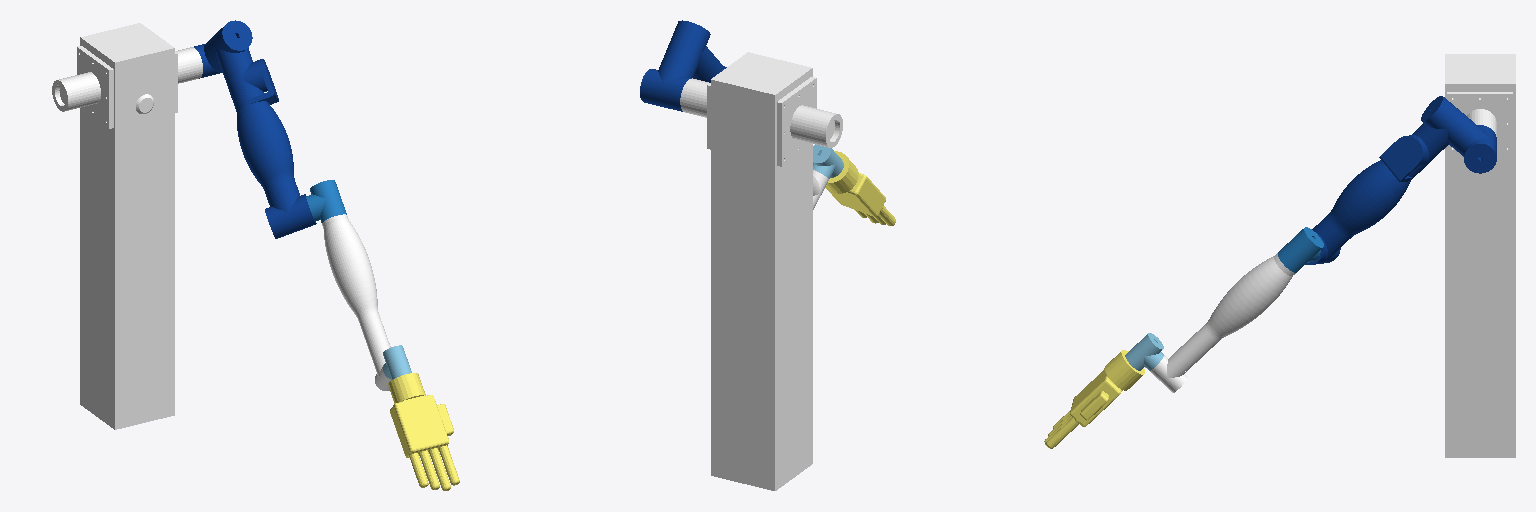
The robot description file, URDF, robot "hustarm20180503":
<robot
  name="hustarm20180503">
  <link
    name="base_link">
    <inertial>
      <origin
        xyz="-9.15781549147076E-19 -2.4784397454063E-05 0.390304716761227"
        rpy="0 0 0" />
      <mass
        value="12.9490065317485" />
      <inertia
        ixx="0.650041483576152"
        ixy="1.61177408696841E-18"
        ixz="2.35960845093074E-18"
        iyy="0.655333472882223"
        iyz="8.33448706115425E-05"
        izz="0.0397437102111683" />
    </inertial>
    <visual>
      <origin
        xyz="0 0 0"
        rpy="0 0 0" />
      <geometry>
        <mesh
          filename="package://hustarm20180503/meshes/base_link.STL" />
      </geometry>
      <material
        name="">
        <color
          rgba="1 1 1 1" />
      </material>
    </visual>
    <collision>
      <origin
        xyz="0 0 0"
        rpy="0 0 0" />
      <geometry>
        <mesh
          filename="package://hustarm20180503/meshes/base_link.STL" />
      </geometry>
    </collision>
  </link>
  <link
    name="link1">
    <inertial>
      <origin
        xyz="1.07941533489253E-09 -0.0042186382371116 0.000844539620302481"
        rpy="0 0 0" />
      <mass
        value="0.254125966188324" />
      <inertia
        ixx="0.000198332098202315"
        ixy="-4.23443722306124E-12"
        ixz="2.49972430489484E-11"
        iyy="0.000180528370127099"
        iyz="-9.05401811091401E-07"
        izz="0.000142050138600536" />
    </inertial>
    <visual>
      <origin
        xyz="0 0 0"
        rpy="0 0 0" />
      <geometry>
        <mesh
          filename="package://hustarm20180503/meshes/link1.STL" />
      </geometry>
      <material
        name="">
        <color
          rgba="0.113725490196078 0.313725490196078 0.635294117647059 1" />
      </material>
    </visual>
    <collision>
      <origin
        xyz="0 0 0"
        rpy="0 0 0" />
      <geometry>
        <mesh
          filename="package://hustarm20180503/meshes/link1.STL" />
      </geometry>
    </collision>
  </link>
  <joint
    name="joint1"
    type="revolute">
    <origin
      xyz="0.184 0 0.675"
      rpy="-1.5708 0.8195 -1.5708" />
    <parent
      link="base_link" />
    <child
      link="link1" />
    <axis
      xyz="0 0 -1" />
    <limit
      lower="-3.14"
      upper="3.14"
      effort="0"
      velocity="0" />
  </joint>
  <link
    name="link2">
    <inertial>
      <origin
        xyz="1.76481837477205E-09 -0.0042185770657015 0.00084454023607361"
        rpy="0 0 0" />
      <mass
        value="0.254125677990374" />
      <inertia
        ixx="0.000198331675931475"
        ixy="5.93428774188883E-12"
        ixz="5.53088566076903E-12"
        iyy="0.000180528501061914"
        iyz="-9.05388593237841E-07"
        izz="0.000142050134140347" />
    </inertial>
    <visual>
      <origin
        xyz="0 0 0"
        rpy="0 0 0" />
      <geometry>
        <mesh
          filename="package://hustarm20180503/meshes/link2.STL" />
      </geometry>
      <material
        name="">
        <color
          rgba="0.113725490196078 0.313725490196078 0.635294117647059 1" />
      </material>
    </visual>
    <collision>
      <origin
        xyz="0 0 0"
        rpy="0 0 0" />
      <geometry>
        <mesh
          filename="package://hustarm20180503/meshes/link2.STL" />
      </geometry>
    </collision>
  </link>
  <joint
    name="joint2"
    type="revolute">
    <origin
      xyz="0 -0.08 0"
      rpy="1.5708 -1.5495 0" />
    <parent
      link="link1" />
    <child
      link="link2" />
    <axis
      xyz="0 0 -1" />
    <limit
      lower="-3.14"
      upper="3.14"
      effort="0"
      velocity="0" />
  </joint>
  <link
    name="link3">
    <inertial>
      <origin
        xyz="5.05571939868332E-09 -0.00198130150047987 0.130480201932413"
        rpy="0 0 0" />
      <mass
        value="1.44391976773071" />
      <inertia
        ixx="0.0125541779815482"
        ixy="9.44804336763111E-11"
        ixz="1.11643782684401E-09"
        iyy="0.0124092991175275"
        iyz="-0.000392849299517415"
        izz="0.00112549375533487" />
    </inertial>
    <visual>
      <origin
        xyz="0 0 0"
        rpy="0 0 0" />
      <geometry>
        <mesh
          filename="package://hustarm20180503/meshes/link3.STL" />
      </geometry>
      <material
        name="">
        <color
          rgba="0.113725490196078 0.313725490196078 0.635294117647059 1" />
      </material>
    </visual>
    <collision>
      <origin
        xyz="0 0 0"
        rpy="0 0 0" />
      <geometry>
        <mesh
          filename="package://hustarm20180503/meshes/link3.STL" />
      </geometry>
    </collision>
  </link>
  <joint
    name="joint3"
    type="revolute">
    <origin
      xyz="0 -0.08 0"
      rpy="-1.5708 -1.0222 -3.1416" />
    <parent
      link="link2" />
    <child
      link="link3" />
    <axis
      xyz="0 0 -1" />
    <limit
      lower="-3.14"
      upper="3.14"
      effort="0"
      velocity="0" />
  </joint>
  <link
    name="link4">
    <inertial>
      <origin
        xyz="2.79610266051833E-08 -0.00355662507859378 -0.00123041304413338"
        rpy="0 0 0" />
      <mass
        value="0.151334113576265" />
      <inertia
        ixx="8.52595610907431E-05"
        ixy="4.19449361260994E-11"
        ixz="1.55356057574376E-12"
        iyy="7.76115530728593E-05"
        iyz="6.62256304869128E-07"
        izz="5.91424715957144E-05" />
    </inertial>
    <visual>
      <origin
        xyz="0 0 0"
        rpy="0 0 0" />
      <geometry>
        <mesh
          filename="package://hustarm20180503/meshes/link4.STL" />
      </geometry>
      <material
        name="">
        <color
          rgba="0.2 0.537254901960784 0.792156862745098 1" />
      </material>
    </visual>
    <collision>
      <origin
        xyz="0 0 0"
        rpy="0 0 0" />
      <geometry>
        <mesh
          filename="package://hustarm20180503/meshes/link4.STL" />
      </geometry>
    </collision>
  </link>
  <joint
    name="joint4"
    type="revolute">
    <origin
      xyz="0 -0.075 0.27"
      rpy="1.6654E-16 -0.010773 -3.1416" />
    <parent
      link="link3" />
    <child
      link="link4" />
    <axis
      xyz="0 -1 0" />
    <limit
      lower="-3.14"
      upper="3.14"
      effort="0"
      velocity="0" />
  </joint>
  <link
    name="link5">
    <inertial>
      <origin
        xyz="8.93309870519943E-11 -0.178072315297836 -0.00011814636278995"
        rpy="0 0 0" />
      <mass
        value="0.695687990955132" />
      <inertia
        ixx="0.00589350948115548"
        ixy="-1.05995434428001E-11"
        ixz="5.70416869120904E-13"
        iyy="0.000360945450853939"
        iyz="1.46362988160611E-05"
        izz="0.0058818682341257" />
    </inertial>
    <visual>
      <origin
        xyz="0 0 0"
        rpy="0 0 0" />
      <geometry>
        <mesh
          filename="package://hustarm20180503/meshes/link5.STL" />
      </geometry>
      <material
        name="">
        <color
          rgba="1 1 1 1" />
      </material>
    </visual>
    <collision>
      <origin
        xyz="0 0 0"
        rpy="0 0 0" />
      <geometry>
        <mesh
          filename="package://hustarm20180503/meshes/link5.STL" />
      </geometry>
    </collision>
  </link>
  <joint
    name="joint5"
    type="revolute">
    <origin
      xyz="0 0 0.35"
      rpy="1.5708 -2.6368E-16 -2.0099" />
    <parent
      link="link4" />
    <child
      link="link5" />
    <axis
      xyz="0 -1 0" />
    <limit
      lower="-3.14"
      upper="3.14"
      effort="0"
      velocity="0" />
  </joint>
  <link
    name="link6">
    <inertial>
      <origin
        xyz="-5.8799947688648E-09 -0.00332710464731489 -0.000977378115177008"
        rpy="0 0 0" />
      <mass
        value="0.0840954358481688" />
      <inertia
        ixx="3.35334189815293E-05"
        ixy="-3.21929154675894E-12"
        ixz="1.08187653584975E-12"
        iyy="2.99782484340852E-05"
        iyz="2.734648632243E-07"
        izz="2.19627938257249E-05" />
    </inertial>
    <visual>
      <origin
        xyz="0 0 0"
        rpy="0 0 0" />
      <geometry>
        <mesh
          filename="package://hustarm20180503/meshes/link6.STL" />
      </geometry>
      <material
        name="">
        <color
          rgba="0.572549019607843 0.803921568627451 0.913725490196078 1" />
      </material>
    </visual>
    <collision>
      <origin
        xyz="0 0 0"
        rpy="0 0 0" />
      <geometry>
        <mesh
          filename="package://hustarm20180503/meshes/link6.STL" />
      </geometry>
    </collision>
  </link>
  <joint
    name="joint6"
    type="revolute">
    <origin
      xyz="0 0 0.06"
      rpy="1.5708 9.7145E-17 3.1416" />
    <parent
      link="link5" />
    <child
      link="link6" />
    <axis
      xyz="0 -1 0" />
    <limit
      lower="-3.14"
      upper="3.14"
      effort="0"
      velocity="0" />
  </joint>
  <link
    name="link7">
    <inertial>
      <origin
        xyz="-0.00238069059477042 7.67189867190154E-10 0.0937656479758585"
        rpy="0 0 0" />
      <mass
        value="0.515437278825869" />
      <inertia
        ixx="0.00144071148561393"
        ixy="-9.84455039528182E-11"
        ixz="1.28663522693287E-05"
        iyy="0.00165389003057971"
        iyz="-1.89345842878472E-11"
        izz="0.000352650786530422" />
    </inertial>
    <visual>
      <origin
        xyz="0 0 0"
        rpy="0 0 0" />
      <geometry>
        <mesh
          filename="package://hustarm20180503/meshes/link7.STL" />
      </geometry>
      <material
        name="">
        <color
          rgba="1 0.964705882352941 0.482352941176471 1" />
      </material>
    </visual>
    <collision>
      <origin
        xyz="0 0 0"
        rpy="0 0 0" />
      <geometry>
        <mesh
          filename="package://hustarm20180503/meshes/link7.STL" />
      </geometry>
    </collision>
  </link>
  <joint
    name="joint7"
    type="revolute">
    <origin
      xyz="0 0 0.03"
      rpy="-3.1086E-15 -5.8287E-16 -3.1416" />
    <parent
      link="link6" />
    <child
      link="link7" />
    <axis
      xyz="0 0 1" />
    <limit
      lower="-3.14"
      upper="3.14"
      effort="0"
      velocity="0" />
  </joint>
</robot>

--- Render facts (derived) ---
Views: 3 orthographic renders of the robot side by side, from view 1: azimuth 30°, elevation 25°; view 2: azimuth 150°, elevation 25°; view 3: azimuth 270°, elevation 25°.
Robot: hustarm20180503 — 8 links, 7 joints (7 revolute); root link base_link; default pose: all joints at 0.
Visible links, largest first — view 1: base_link, link3, link7, link5, link2, link4, link6; view 2: base_link, link7, link2, link1, link6; view 3: base_link, link3, link5, link7, link2, link1, link4, link6.
Link boxes in pixels (x1,y1,x2,y2): base_link: [52, 23, 202, 429]; link3: [221, 57, 316, 238]; link7: [388, 373, 459, 490]; link5: [322, 214, 391, 390]; link2: [207, 20, 252, 66]; link4: [306, 180, 346, 222]; link6: [383, 345, 411, 379]; base_link: [680, 52, 842, 490]; link7: [825, 151, 895, 225]; link2: [661, 20, 710, 74]; link1: [640, 62, 693, 111]; link6: [813, 144, 843, 178]; base_link: [1445, 54, 1515, 457]; link3: [1305, 126, 1443, 264]; link5: [1150, 253, 1295, 392]; link7: [1044, 350, 1144, 448]; link2: [1421, 96, 1475, 148]; link1: [1455, 125, 1496, 173]; link4: [1278, 227, 1323, 272]; link6: [1125, 333, 1163, 370].
Size in the robot's own frame: 0.426 by 0.8575 by 0.7788 metres.
8 mesh visuals loaded from 8 distinct referenced files (8 binary STL).
